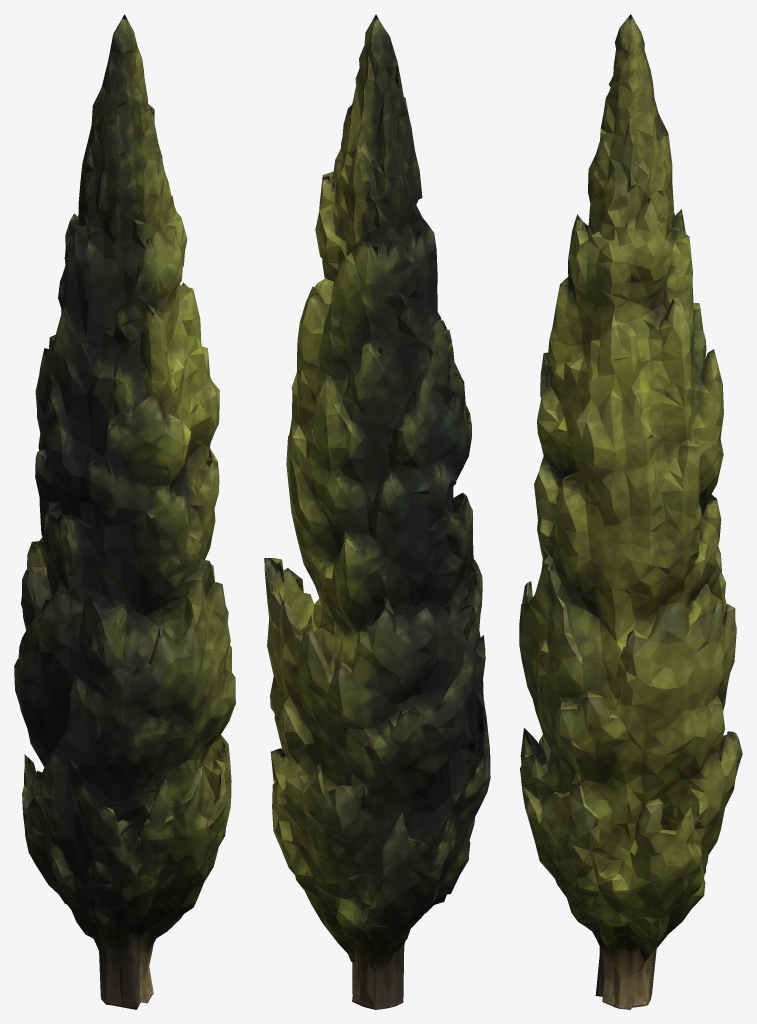
Rendered from veg_cypress.glb.
3 renders of one model, left to right at view 1: azimuth 30°, elevation 25°; view 2: azimuth 150°, elevation 25°; view 3: azimuth 270°, elevation 25°, orthographic.
Visible parts, largest first — view 1: world; view 2: world; view 3: world.
Part boxes in pixels (x1,y1,x2,y2): world: (14,14,235,1009); world: (264,14,490,1009); world: (519,14,742,1009).
Size of the model in its own units: 0.2062 by 1 by 0.2066.
1 material, 1 textured.
